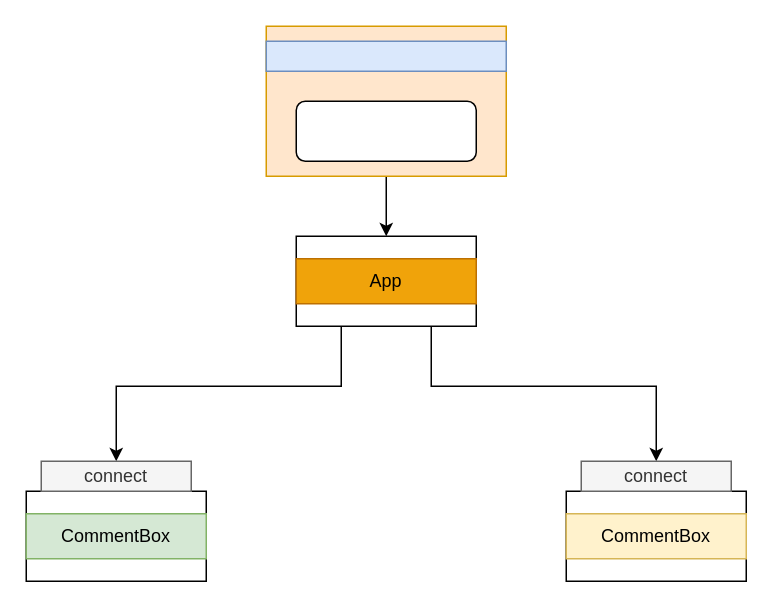
Image size: 773x608. Some labels were removed from this diagram. Each missing label, with the centre of its shape:
"Provider" belongs at [385,55].
"Redux Store" belongs at [385,130].
